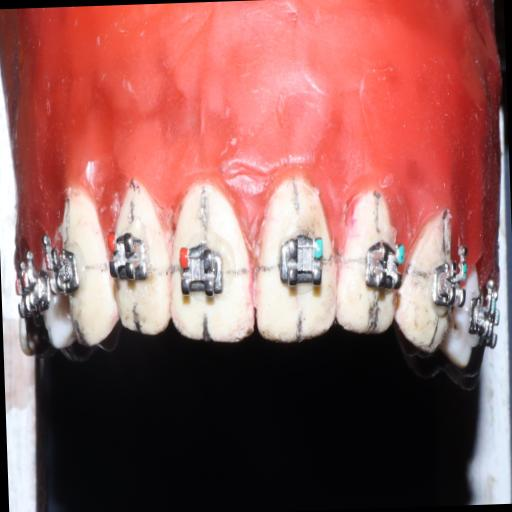incorrect_brace: (176, 238, 227, 306), (276, 228, 327, 294)
